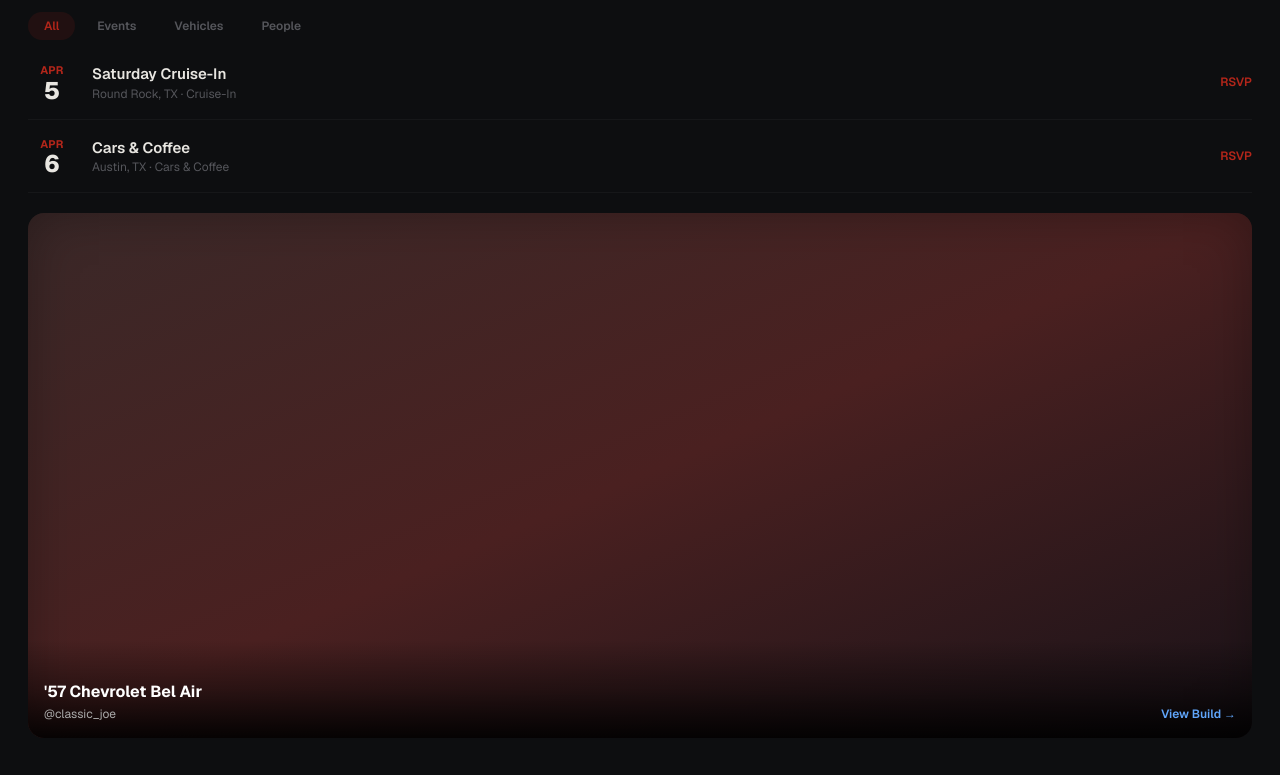
Scenario: LandingFeed › filters to show only people when People tab is selected
Click the tab "People" at (281, 26), box top-left (246, 12), bottom-right (317, 40)
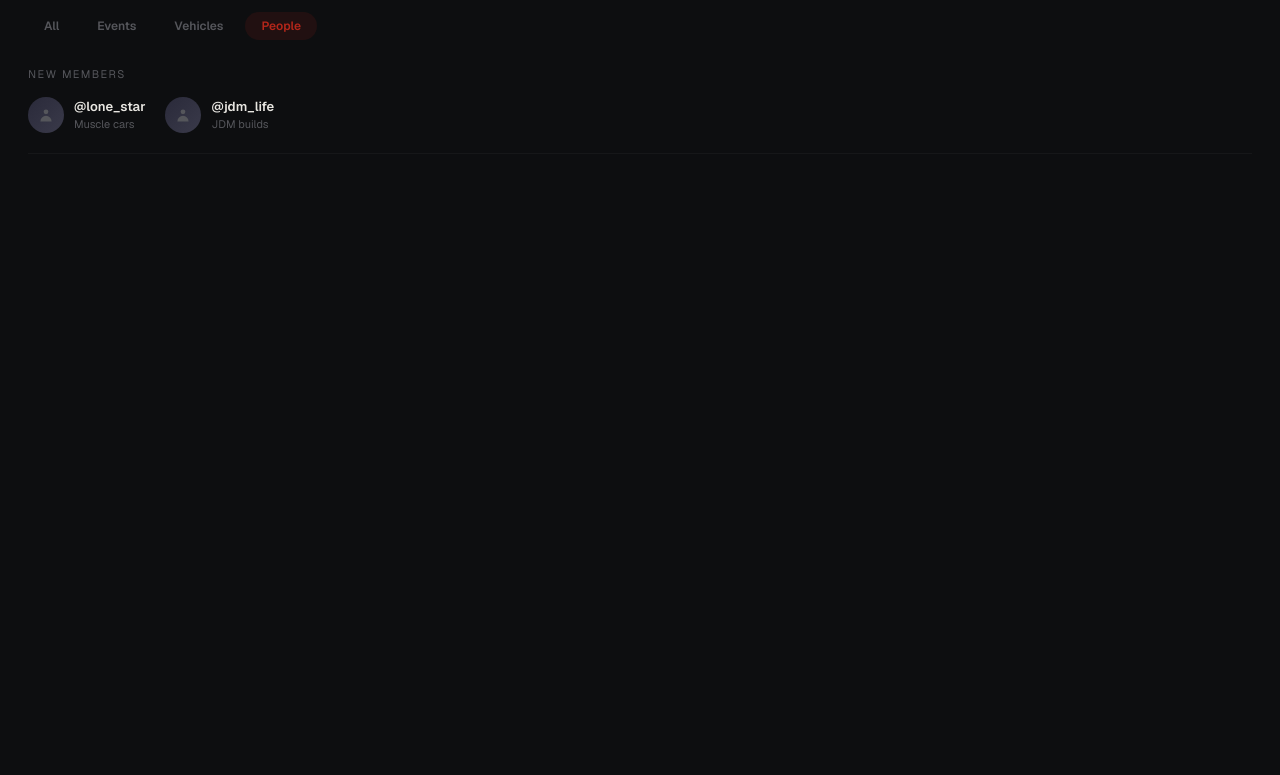
Expected: the text "@lone_star" is shown, top-left (74, 96), bottom-right (146, 116)
Expected: the link "Saturday Cruise-In" is gone
